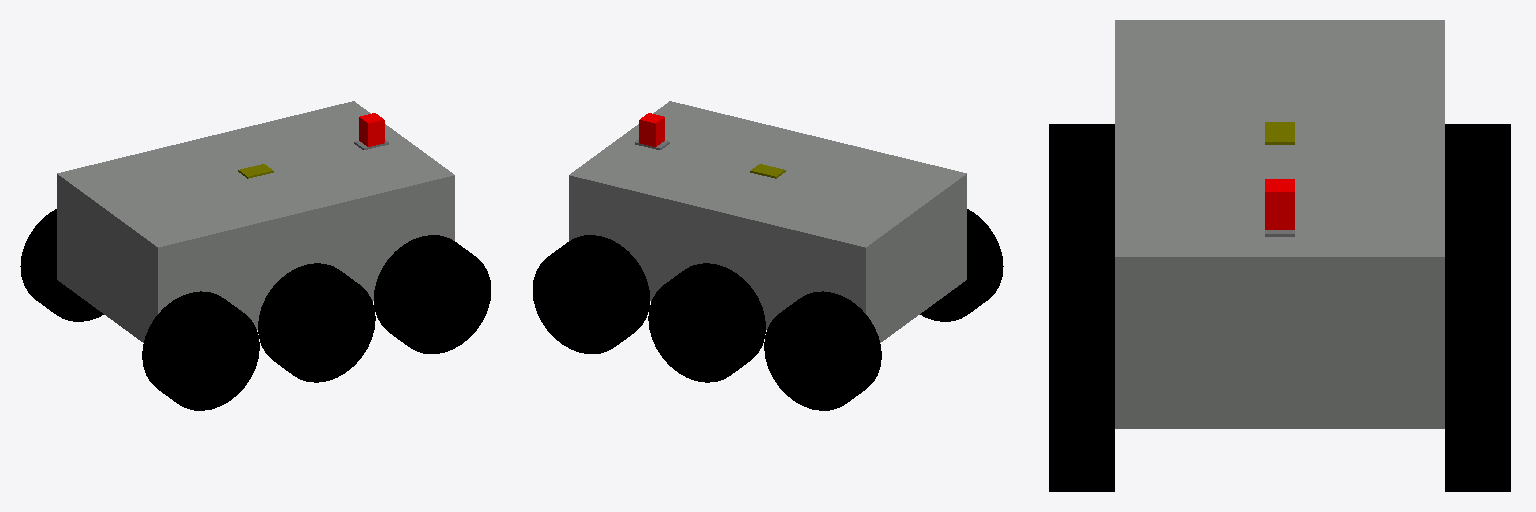
URDF robot description (panther):
<?xml version="1.0"?>
<robot name="panther" xmlns:xacro="http://ros.org/wiki/xacro">

	<!-- Link setup -->
	<link name="fr_wheel_link">
		<inertial>
			<origin xyz="0 0 0.05" rpy="1.5708 0 0"/>
			<mass value="9"/>
			<inertia ixx="0.11" ixy="0" ixz="0" iyy="0.11" iyz="0" izz="0.15" />
		</inertial>

		<visual>
			<origin xyz="0 0 0" rpy="1.5708 0.0 0.0"/>
			<geometry>
				<cylinder radius="0.15" length="0.108"/>
			</geometry>
			<material name="wheel">
				<color rgba="0 0 0 1.0" />
			</material>
		</visual>

		<collision>
			<origin xyz="0 0 0" rpy="1.5708 0.0 0.0"/>
			<geometry>
				<cylinder radius="0.15" length="0.108"/>
			</geometry>
		</collision>
	</link>

	<link name="mr_wheel_link">
		<inertial>
			<origin xyz="0 0 0.05" rpy="1.5708 0 0"/>
			<mass value="9"/>
			<inertia ixx="0.11" ixy="0" ixz="0" iyy="0.11" iyz="0" izz="0.15" />
		</inertial>

		<visual>
			<origin xyz="0.0 0 0" rpy="1.5708 0.0 0.0"/>
			<geometry> 
				<cylinder radius="0.15" length="0.108"/>
			</geometry>
			<material name="wheel">
				<color rgba="0 0 0 1.0" />
			</material>
		</visual>

		<!--collision>
			<origin xyz="0.0 0 0.054" />
			<geometry>
				<cylinder radius="0.15" length="0.108"/>
			</geometry>
		</collision-->
	</link>

	<link name="rr_wheel_link">
		<inertial>
			<origin xyz="0 0 0.05" rpy="1.5708 0 0"/>
			<mass value="9"/>
			<inertia ixx="0.11" ixy="0" ixz="0" iyy="0.11" iyz="0" izz="0.15" />
		</inertial>

		<visual>
			<origin xyz="0 0 0" rpy="1.5708 0.0 0.0"/>
			<geometry>
				<cylinder radius="0.15" length="0.108"/>
			</geometry>
			<material name="wheel">
				<color rgba="0 0 0 1.0" />
			</material>
		</visual>

		<collision>
			<origin xyz="0 0 0" rpy="1.5708 0.0 0.0"/>
			<geometry>
				<cylinder radius="0.15" length="0.108"/>
			</geometry>
		</collision>
	</link>

	<link name="fl_wheel_link">
		<inertial>
			<origin xyz="0 0 0.05" rpy="1.5708 0 0"/>
			<mass value="9"/>
			<inertia ixx="0.11" ixy="0" ixz="0" iyy="0.11" iyz="0" izz="0.15" />
		</inertial>

		<visual>
			<origin xyz="0 0 0" rpy="-1.5708 0.0 0.0"/>
			<geometry>
				<cylinder radius="0.15" length="0.108"/>
			</geometry>
			<material name="wheel">
				<color rgba="0 0 0 1.0" />
			</material>
		</visual>

		<collision>
			<origin xyz="0 0 0" rpy="-1.5708 0.0 0.0"/>
			<geometry>
				<cylinder radius="0.15" length="0.108"/>
			</geometry>
		</collision>
	</link>

	<link name="ml_wheel_link">
		<inertial>
			<origin xyz="0 0 0.05" rpy="1.5708 0 0" />
			<mass value="9"/>
			<inertia ixx="0.11" ixy="0" ixz="0" iyy="0.11" iyz="0" izz="0.15" />
		</inertial>

		<visual>
			<origin xyz="0 0 0" rpy="-1.5708 0.0 0.0"/>
			<geometry>
				<cylinder radius="0.15" length="0.108"/>
			</geometry>
			<material name="wheel">
				<color rgba="0 0 0 1.0" />
			</material>
		</visual>

		<!--collision>
			<origin xyz="0 0 0.054"/>
			<geometry>
				<cylinder radius="0.15" length="0.108"/>
			</geometry>
		</collision-->
	</link>

	<link name="rl_wheel_link"> 
		<inertial>
			<origin xyz="0 0 0.05" rpy="1.5708 0 0"/>
			<mass value="9"/>
			<inertia ixx="0.11" ixy="0" ixz="0" iyy="0.11" iyz="0" izz="0.15" />
		</inertial>

		<visual>
			<origin xyz="0 0 0" rpy="-1.5708 0.0 0.0"/>
			<geometry>
				<cylinder radius="0.15" length="0.108"/>
			</geometry>
			<material name="wheel">
				<color rgba="0 0 0 1.0" />
			</material>
		</visual>

		<collision>
			<origin xyz="0 0 0" rpy="-1.5708 0.0 0.0"/>
			<geometry>
				<cylinder radius="0.15" length="0.108"/>
			</geometry>
		</collision>
	</link>

	<link name="base_link">
		<inertial>
			<origin xyz="0 0 0.287" rpy="0 0 0"/>
			<mass value="83.31"/>
			<inertia ixx="5.60" ixy="-0.11" ixz="0" iyy="9.65" iyz="0" izz="10.51" />
		</inertial>

		<visual>
			<origin xyz="0 0 0.287"/>
			<geometry>
				<box size = "0.914 0.53975 0.312"/>
			</geometry>
			<material name="hk1500">
				<color rgba="0.57 0.58 0.57 1.0" /> 
			</material>
		</visual>

		<collision>
			<origin xyz="0 0 0.287"/>
			<geometry> 
				<box size = "0.914 0.53975 0.312"/>
			</geometry>
		</collision> 
	</link>
	<link name="base_footprint"/>
	
	
	<!-- Joint defines -->
    <joint name="base_joint" type="fixed">
        <origin xyz="0 0 0.19783" rpy="0 0 0"/>
        <parent link="base_footprint"/>
        <child link="base_link"/>
    </joint>
	<joint name="fr_wheel_joint" type="continuous">
		<parent link="base_link"/>
		<child link="fr_wheel_link"/>
		<axis xyz="0 1 0"/>
		<origin xyz="0.356108 -0.323875 0.137" />
	</joint>
	<joint name="fl_wheel_joint" type="continuous">
		<parent link="base_link"/>
		<child link="fl_wheel_link"/>
		<axis xyz="0 1 0"/>
		<origin xyz="0.356108 0.323875 0.137" />
	</joint>

	<joint name="mr_wheel_joint" type="fixed">
		<parent link="base_link"/>
		<child link="mr_wheel_link"/>
		<axis xyz="0 1 0"/>
		<origin xyz="0.0 -0.323875 0.137" />
	</joint>

	<joint name="ml_wheel_joint" type="fixed">
		<parent link="base_link"/>
		<child link="ml_wheel_link"/>
		<axis xyz="0 1 0"/>
		<origin xyz="0.0 0.323875 0.137" />
	</joint>

	<joint name="rr_wheel_joint" type="continuous">
		<parent link="base_link"/>
		<child link="rr_wheel_link"/>
		<axis xyz="0 1 0"/>
		<origin xyz="-0.356108 -0.323875 0.137" />
	</joint>
	<joint name="rl_wheel_joint" type="continuous">
		<parent link="base_link"/>
		<child link="rl_wheel_link"/>
		<axis xyz="0 1 0"/>
		<origin xyz="-0.356108 0.323875 0.137" />
	</joint>
	
	<!-- Lidar -->
	<link name="hokuyo_link"> 
    	<visual>
      		<origin xyz="0 0 0.003"/>
      		<geometry>
        		<box size="0.079 0.05 0.006"/>
      		</geometry>
      		<material name="support">
        		<color rgba="0.5 0.5 0.5 1.0"/>
      		</material>
    	</visual>
    	<visual>
      		<origin xyz="0 0 0.041"/>
      		<geometry>
        		<box size="0.05 0.05 0.07"/>
      		</geometry>
      		<material name="lidar">
        		<color rgba="1.0 0.0 0.0 0.7"/>
      		</material>
    	</visual>
    	<collision>
      		<origin xyz="0 0 0.003"/>
      		<geometry>
        		<box size="0.079 0.05 0.006"/>
      		</geometry>
    	</collision>
    	<collision>
      		<origin xyz="0 0 0.041"/>
      		<geometry>
        		<box size="0.05 0.05 0.07"/>
      		</geometry>
    	</collision>
  	</link>

  	<joint name="hokuyo_joint" type="fixed">
    		<origin xyz="0.356108 0 0.449"/>
    		<parent link="base_link"/>
    		<child link="hokuyo_link"/>
  	</joint>

  	<link name="laser_frame"/>

  	<joint name="laser_joint" type="fixed">
    		<origin xyz="0 0 0.04"/> <!-- something is weird here, was xyz = 0 0 0.513-->
    		<parent link="hokuyo_link"/>
    		<child link="laser_frame"/>
  	</joint>
  	
  	<!-- IMU -->
	<link name="imu_link"> 
    	<visual>
      		<origin xyz="0 0 0.003"/>
      		<geometry>
        		<box size="0.079 0.05 0.006"/>
      		</geometry>
      		<material name="imu">
        		<color rgba="0.5 0.5 0 1.0"/>
      		</material>
    	</visual>
		<collision>
      		<origin xyz="0 0 0.003"/>
      		<geometry>
        		<box size="0.079 0.05 0.006"/>
      		</geometry>
    	</collision>
	</link>

	<joint name="imu_joint" type="fixed">
    		<origin xyz="0 0 0.449"/>
    		<parent link="base_link"/>
    		<child link="imu_link"/>
  	</joint>
	
  	
  <!-- Gazebo -->
  
  <!-- ros_control plugin -->
  <gazebo>
    <plugin name="gazebo_ros_control" filename="libgazebo_ros_control.so">
      <robotNamespace></robotNamespace>
      <robotSimType>gazebo_ros_control/DefaultRobotHWSim</robotSimType>
    </plugin>
  </gazebo>
  
  <!--gazebo>
    <controller:gazebo_ros_controller_manager name="gazebo_ros_controller_manager" plugin="libgazebo_ros_controller_manager.so">
      <alwaysOn>true</alwaysOn>
      <updateRate>1000.0</updateRate>
      <interface:audio name="gazebo_ros_controller_manager_dummy_iface" />
    </controller:gazebo_ros_controller_manager>
  </gazebo-->

  <!-- Base -->
  <gazebo reference="base_link">
    <material>Gazebo/Grey</material>
  </gazebo>

  <!-- Front Right Wheel -->
  <gazebo reference="fr_wheel_joint">
    <!--mu1>0.2</mu1>
    <mu2>0.2</mu2-->
    <material>Gazebo/Black</material>
  </gazebo>

  <!-- Front Left Wheel -->
  <gazebo reference="fl_wheel_joint">
    <!--mu1>0.2</mu1>
    <mu2>0.2</mu2-->
    <material>Gazebo/Black</material>
  </gazebo>
  
  <!-- Middle Right Wheel -->
  <gazebo reference="mr_wheel_joint">
    <!--mu1>0.2</mu1>
    <mu2>0.2</mu2-->
    <material>Gazebo/Black</material>
  </gazebo>

<!-- Middle Left Wheel -->
  <gazebo reference="ml_wheel_joint">
    <!--mu1>0.2</mu1>
    <mu2>0.2</mu2-->
    <material>Gazebo/Black</material>
  </gazebo>

<!-- Rear Right Wheel -->
  <gazebo reference="rr_wheel_joint">
    <!--mu1>0.2</mu1>
    <mu2>0.2</mu2-->
    <material>Gazebo/Black</material>
  </gazebo>

<!-- Rear Left Wheel -->
  <gazebo reference="rl_wheel_joint">
    <!--mu1>0.2</mu1>
    <mu2>0.2</mu2-->
    <material>Gazebo/Black</material>
  </gazebo>

  <!-- camera_link 
  <gazebo reference="camera_link">
    <mu1>0.2</mu1>
    <mu2>0.2</mu2>
    <material>Gazebo/Red</material>
  </gazebo>-->

<!-- Skid Steer Plugin -->
 <gazebo>
  <plugin name="skid_steer_drive_controller" filename="libgazebo_ros_skid_steer_drive.so">
    <updateRate>100.0</updateRate>
    <robotNamespace></robotNamespace>
    <leftFrontJoint>fl_wheel_joint</leftFrontJoint>
    <rightFrontJoint>fr_wheel_joint</rightFrontJoint>
    <leftRearJoint>rl_wheel_joint</leftRearJoint>
    <rightRearJoint>rr_wheel_joint</rightRearJoint>
    <wheelSeparation>0.4</wheelSeparation>
    <wheelDiameter>0.215</wheelDiameter>
    <robotBaseFrame>base_footprint</robotBaseFrame>
    <torque>1000</torque>
    <commandTopic>cmd_vel</commandTopic>
    <odometryFrame>odom</odometryFrame>
    <broadcastTF>True</broadcastTF>
  </plugin>
</gazebo>

  <!-- Lidar -->
  <gazebo reference="laser_frame">
    <sensor type="ray" name="head_hokuyo_sensor">
      <pose>0 0 0 0 0 0</pose>
      <visualize>true</visualize>
      <update_rate>40</update_rate>
      <ray>
        <scan>
          <horizontal>
            <samples>1080</samples>
            <resolution>1</resolution>
            <min_angle>-2.35619</min_angle>
            <max_angle>2.35619</max_angle>
          </horizontal>
        </scan>
        <range>
          <min>0.10</min>
          <max>30.0</max>
          <resolution>0.01</resolution>
        </range>
        <noise>
          <type>gaussian</type>
          <!-- Noise parameters based on published spec for Hokuyo laser
               achieving "+-30mm" accuracy at range < 10m.  A mean of 0.0m and
               stddev of 0.01m will put 99.7% of samples within 0.03m of the true
               reading. -->
          <mean>0.0</mean>
          <stddev>0.01</stddev>
        </noise>
      </ray>
      <plugin name="gazebo_ros_head_hokuyo_controller" filename="libgazebo_ros_laser.so">
        <topicName>/scan</topicName>
        <frameName>hokuyo_link</frameName>
      </plugin>
    </sensor>
  </gazebo>

	<!-- IMU 
	<gazebo reference="imu_link">
    <gravity>true</gravity>
    <sensor name="imu_sensor" type="imu">
      <always_on>true</always_on>
      <update_rate>100</update_rate>
      <visualize>true</visualize>
      <topic>/imu/data_raw</topic>
      <plugin filename="libgazebo_ros_imu_sensor.so" name="imu_plugin">
        <topicName>/imu/data_raw</topicName>
        <bodyName>imu_link</bodyName>
        <updateRateHZ>10.0</updateRateHZ>
        <gaussianNoise>0.0</gaussianNoise>
        <xyzOffset>0 0 0</xyzOffset>
        <rpyOffset>0 0 0</rpyOffset>
        <frameName>imu_link</frameName>
        <initialOrientationAsReference>false</initialOrientationAsReference>
      </plugin>
      <pose>0 0 0 0 0 0</pose>
    </sensor>
  </gazebo>-->


</robot>

--- Render facts (derived) ---
The picture shows the robot from 3 angles, left to right: view 1: azimuth 30°, elevation 25°; view 2: azimuth 150°, elevation 25°; view 3: azimuth 270°, elevation 25°; orthographic projection.
Robot: panther — 11 links, 10 joints (4 continuous, 6 fixed); root link base_footprint; default pose: all joints at 0.
Visible links, largest first — view 1: base_link, mr_wheel_link, rr_wheel_link, fr_wheel_link, rl_wheel_link, hokuyo_link; view 2: base_link, ml_wheel_link, rl_wheel_link, fl_wheel_link, rr_wheel_link, hokuyo_link; view 3: base_link, fr_wheel_link, fl_wheel_link, mr_wheel_link, rr_wheel_link, ml_wheel_link, rl_wheel_link, hokuyo_link, imu_link.
Boxes of the visible links, x1=… form: base_link: x1=57, y1=101, x2=454, y2=342; mr_wheel_link: x1=258, y1=263, x2=375, y2=382; rr_wheel_link: x1=142, y1=291, x2=259, y2=410; fr_wheel_link: x1=374, y1=235, x2=490, y2=353; rl_wheel_link: x1=20, y1=209, x2=103, y2=321; hokuyo_link: x1=354, y1=113, x2=388, y2=149; base_link: x1=569, y1=101, x2=966, y2=342; ml_wheel_link: x1=648, y1=263, x2=765, y2=382; rl_wheel_link: x1=764, y1=291, x2=881, y2=410; fl_wheel_link: x1=533, y1=235, x2=649, y2=353; rr_wheel_link: x1=920, y1=209, x2=1003, y2=321; hokuyo_link: x1=635, y1=113, x2=669, y2=149; base_link: x1=1115, y1=20, x2=1444, y2=428; fr_wheel_link: x1=1049, y1=308, x2=1114, y2=491; fl_wheel_link: x1=1445, y1=308, x2=1510, y2=491; mr_wheel_link: x1=1049, y1=216, x2=1114, y2=307; rr_wheel_link: x1=1049, y1=124, x2=1114, y2=215; ml_wheel_link: x1=1445, y1=216, x2=1510, y2=307; rl_wheel_link: x1=1445, y1=124, x2=1510, y2=215; hokuyo_link: x1=1265, y1=179, x2=1294, y2=236; imu_link: x1=1265, y1=122, x2=1294, y2=144.
Bounding box of the posed robot: 1.01 × 0.7558 × 0.538 m (x, y, z).
Geometry: primitives only (box / cylinder / sphere), no mesh files.
